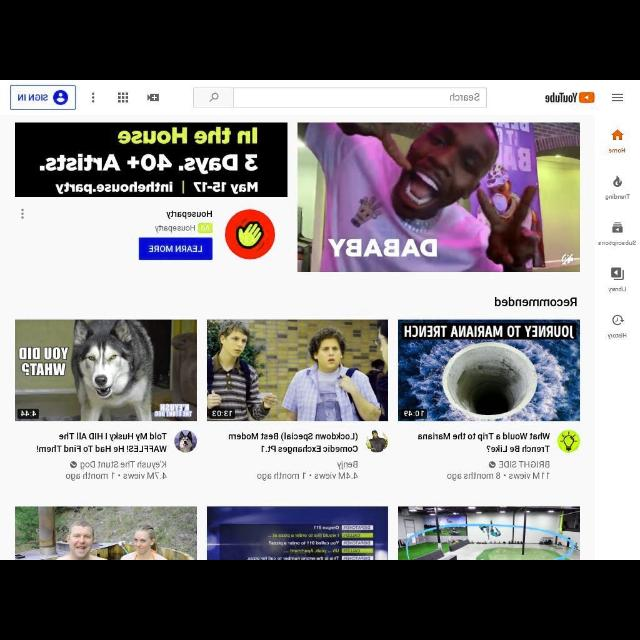button: (193, 89, 233, 108)
icon: (611, 90, 625, 106), (610, 128, 626, 142), (52, 92, 70, 104), (612, 312, 624, 326), (145, 92, 159, 104), (116, 92, 130, 104), (612, 175, 624, 187), (611, 268, 623, 280), (18, 206, 26, 224), (486, 458, 498, 469), (612, 222, 622, 234), (209, 91, 219, 102), (70, 460, 78, 470), (90, 91, 96, 103)
iframe: (14, 120, 288, 272)
image: (298, 122, 580, 272), (398, 318, 580, 422), (14, 320, 196, 420), (208, 321, 386, 421), (207, 504, 387, 558), (398, 507, 578, 559), (17, 507, 195, 559), (545, 90, 595, 106), (174, 428, 198, 454), (556, 431, 580, 455), (364, 431, 390, 452)
input: (400, 507, 582, 557), (192, 88, 486, 109)
panel: (583, 80, 637, 558)
switch: (560, 252, 574, 266)
text: (417, 431, 551, 453), (228, 431, 358, 452), (37, 432, 165, 453), (492, 296, 576, 308), (80, 460, 168, 470), (498, 458, 550, 469), (448, 472, 498, 481), (123, 470, 167, 480), (317, 470, 358, 480), (64, 474, 114, 481), (509, 471, 551, 479), (450, 91, 480, 102), (256, 474, 308, 480), (598, 239, 634, 247), (18, 93, 48, 101), (337, 461, 358, 469), (606, 285, 626, 293), (604, 193, 630, 199), (608, 146, 624, 154), (607, 333, 627, 339)
textbutton: (12, 84, 76, 110)
